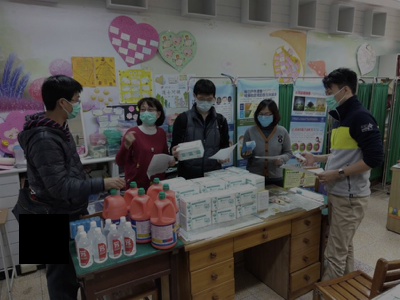with_mask: (64, 95, 82, 121), (139, 105, 158, 126), (195, 96, 215, 114), (324, 89, 340, 111), (256, 111, 274, 128)
